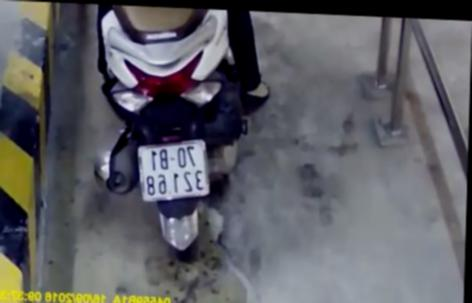License_Plate: (128, 132, 216, 213)
